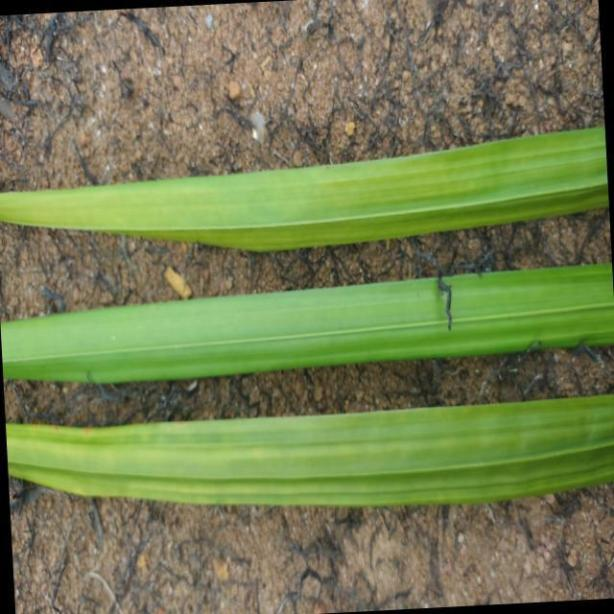nitrogen: (1, 121, 614, 252), (6, 388, 614, 508), (3, 268, 614, 384)
